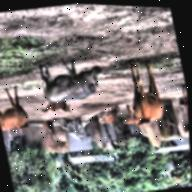boar: (29, 43, 119, 114)
